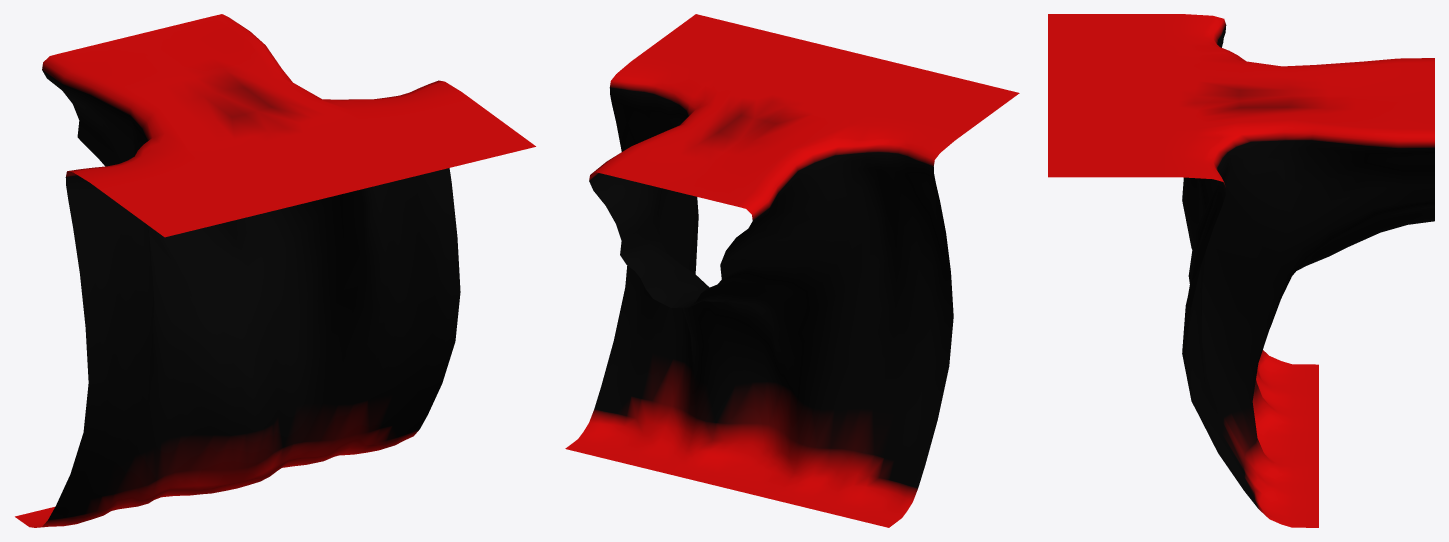
Rendered from CrossingCliff02D 2M Foreground.fbx.
3 renders of one model, left to right at view 1: azimuth 30°, elevation 25°; view 2: azimuth 150°, elevation 25°; view 3: azimuth 270°, elevation 25°, orthographic. The views are drawn at different scales.
Visible parts, largest first — view 1: CrossingCliff02D 2M Foreground; view 2: CrossingCliff02D 2M Foreground; view 3: CrossingCliff02D 2M Foreground.
Boxes of the visible parts, x1,y1,x2,y2 form: CrossingCliff02D 2M Foreground: (15,14,535,527); CrossingCliff02D 2M Foreground: (565,14,1019,527); CrossingCliff02D 2M Foreground: (1048,14,1434,527).
Bounding box in the file's own units: 2 × 2.01 × 2.
